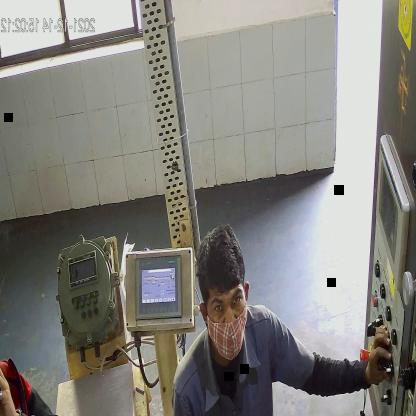no_goggles: (209, 286, 246, 320)
